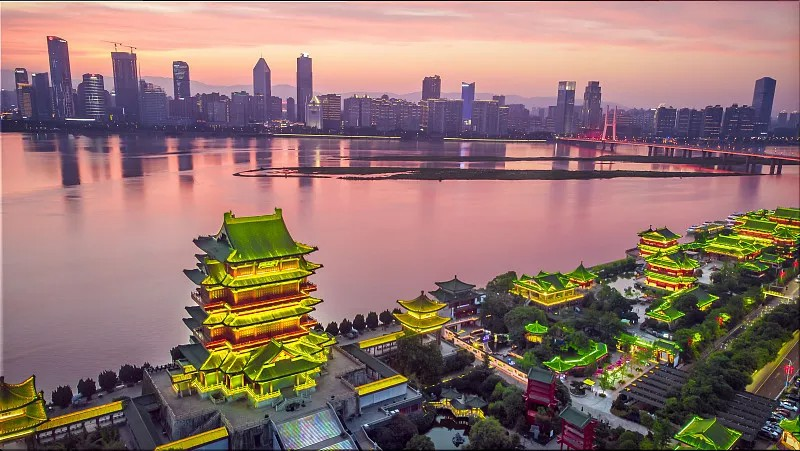Teng: (165, 206, 339, 403)
